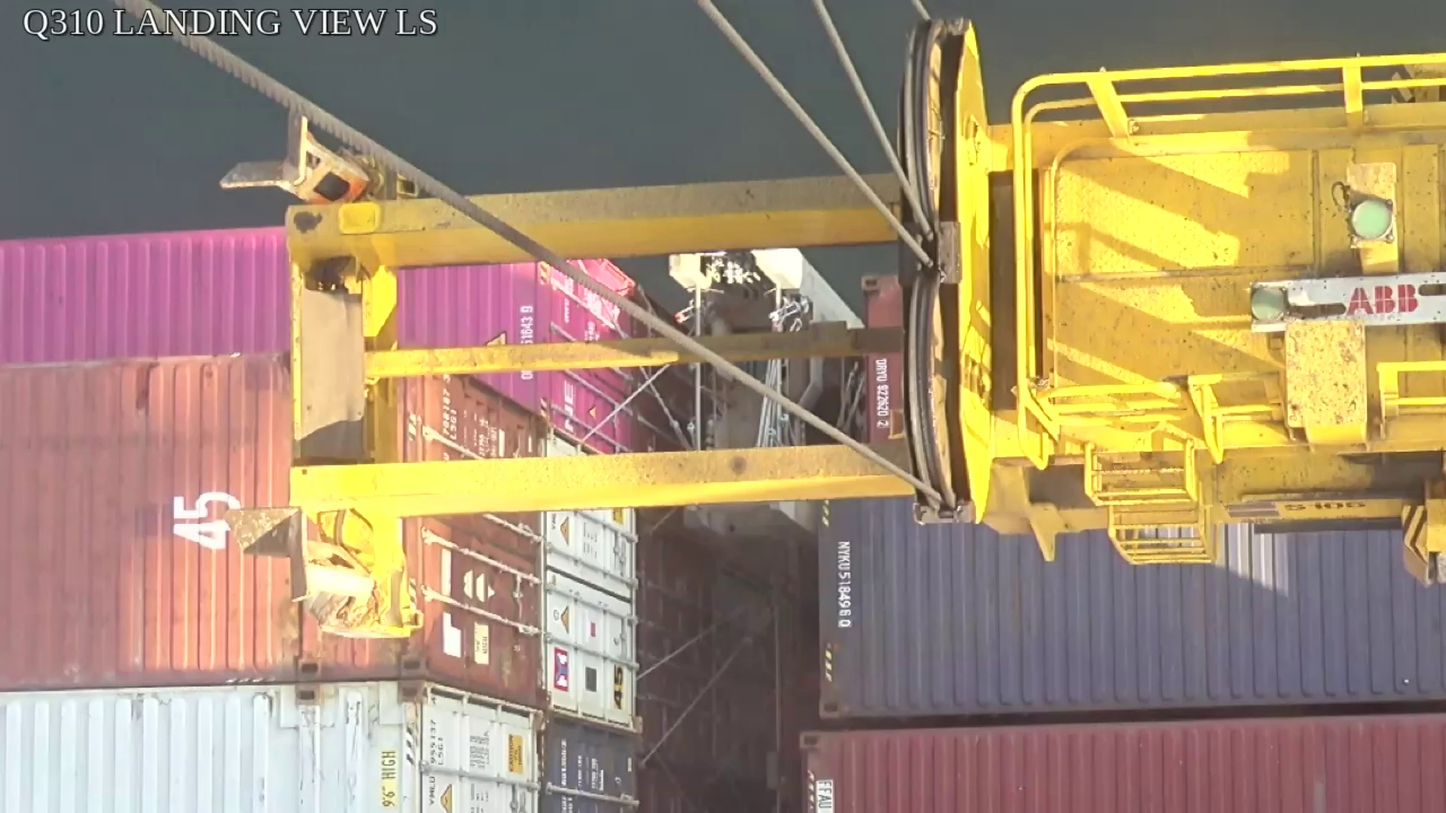aa: (898, 17, 994, 523)
